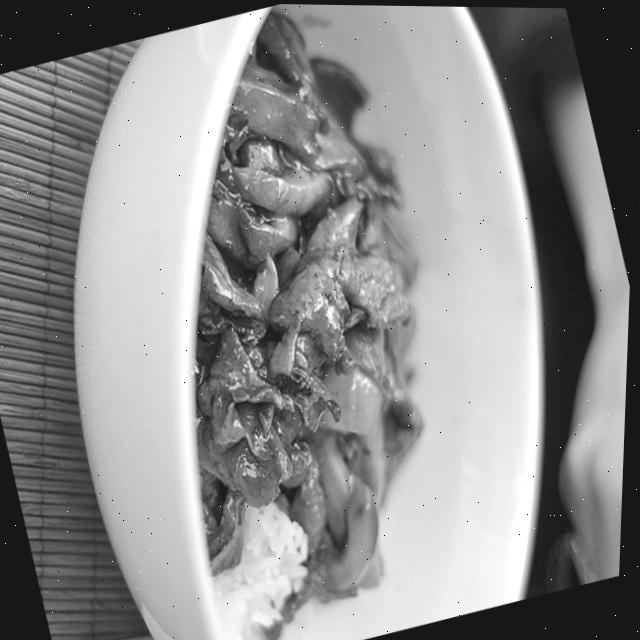牛肉菜式: (88, 1, 542, 632)
